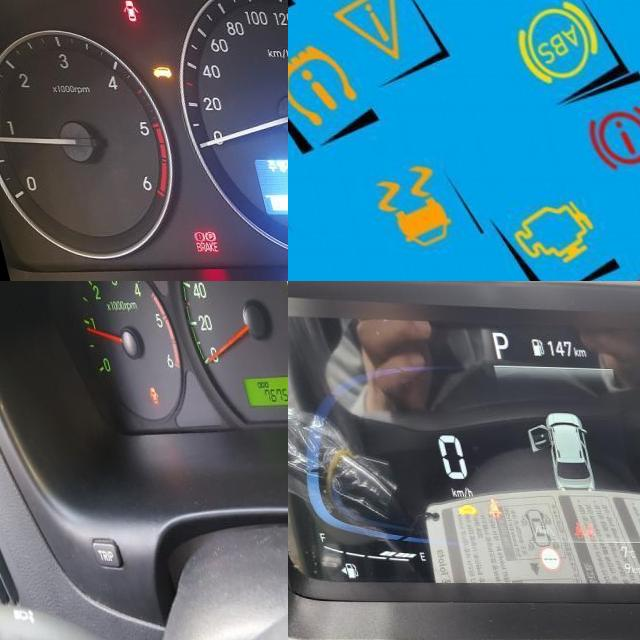Doors: (107, 0, 125, 20), (132, 386, 144, 404)
